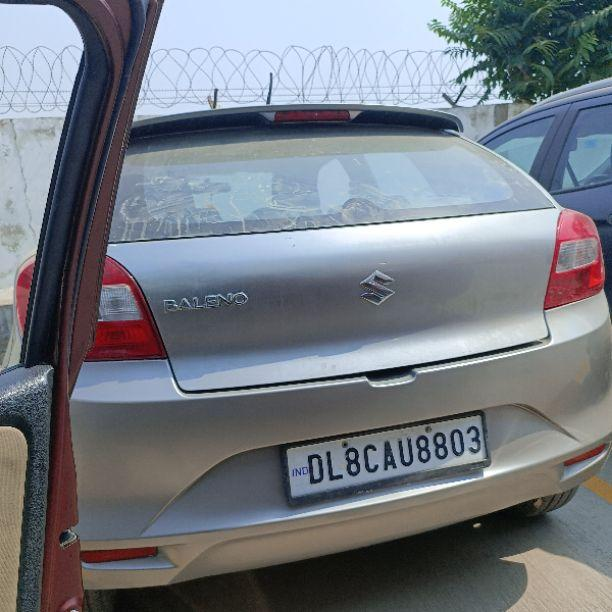license_plate: (279, 409, 491, 507)
